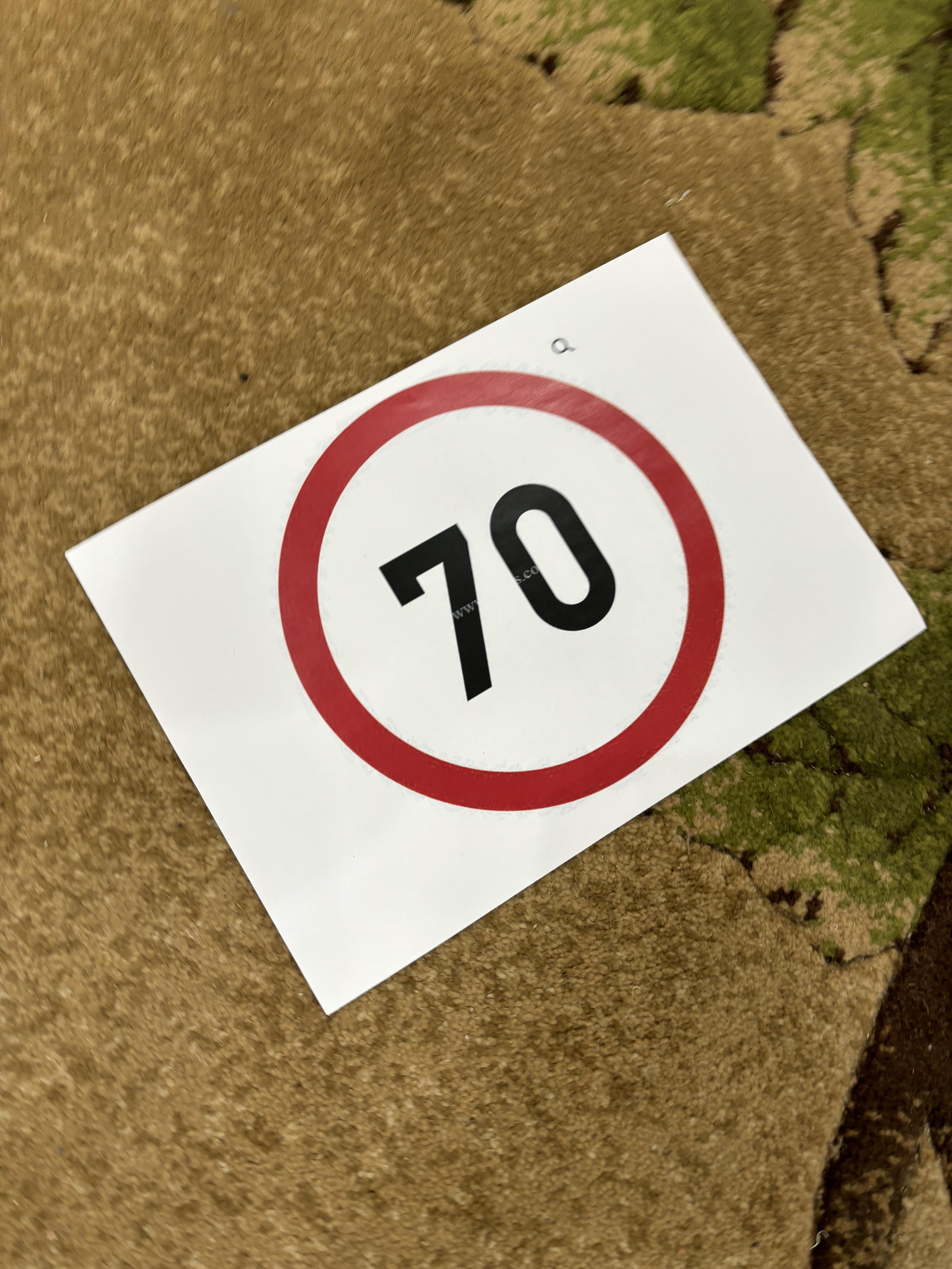70-Speed: (274, 367, 732, 813)
